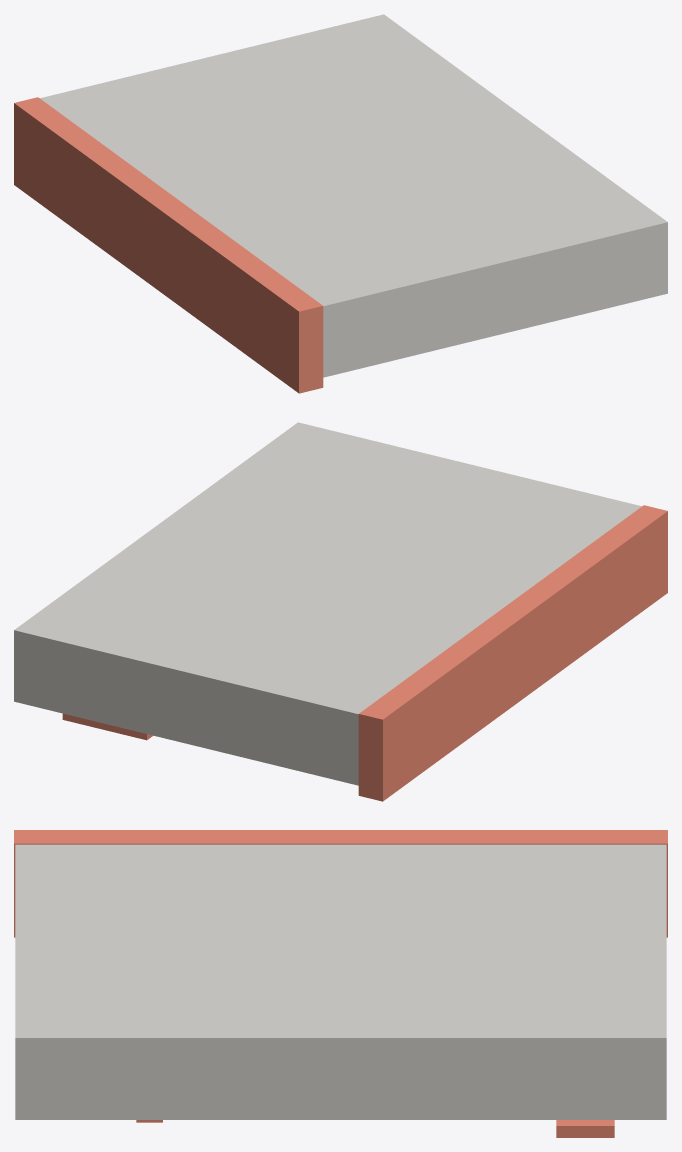
The model's file is iconem.glb.
3 views of the same model, one above another, from view 1: azimuth 30°, elevation 25°; view 2: azimuth 150°, elevation 25°; view 3: azimuth 270°, elevation 25° (orthographic). The views are drawn at different scales.
Visible parts, largest first — view 1: Iconem carton, Iconem spine; view 2: Iconem carton, Iconem spine, Iconem edition chip; view 3: Iconem carton, Iconem spine, Iconem edition chip.
Part boxes in pixels (box(x1,y1,x2,y2)): Iconem carton: box(40, 14, 667, 377); Iconem spine: box(14, 97, 323, 393); Iconem carton: box(14, 422, 641, 785); Iconem spine: box(358, 505, 667, 801); Iconem edition chip: box(62, 713, 152, 740); Iconem carton: box(15, 844, 666, 1119); Iconem spine: box(14, 830, 667, 937); Iconem edition chip: box(556, 1120, 614, 1137).
Bounding box in the file's own units: 1.84 × 0.4825 × 2.46.
